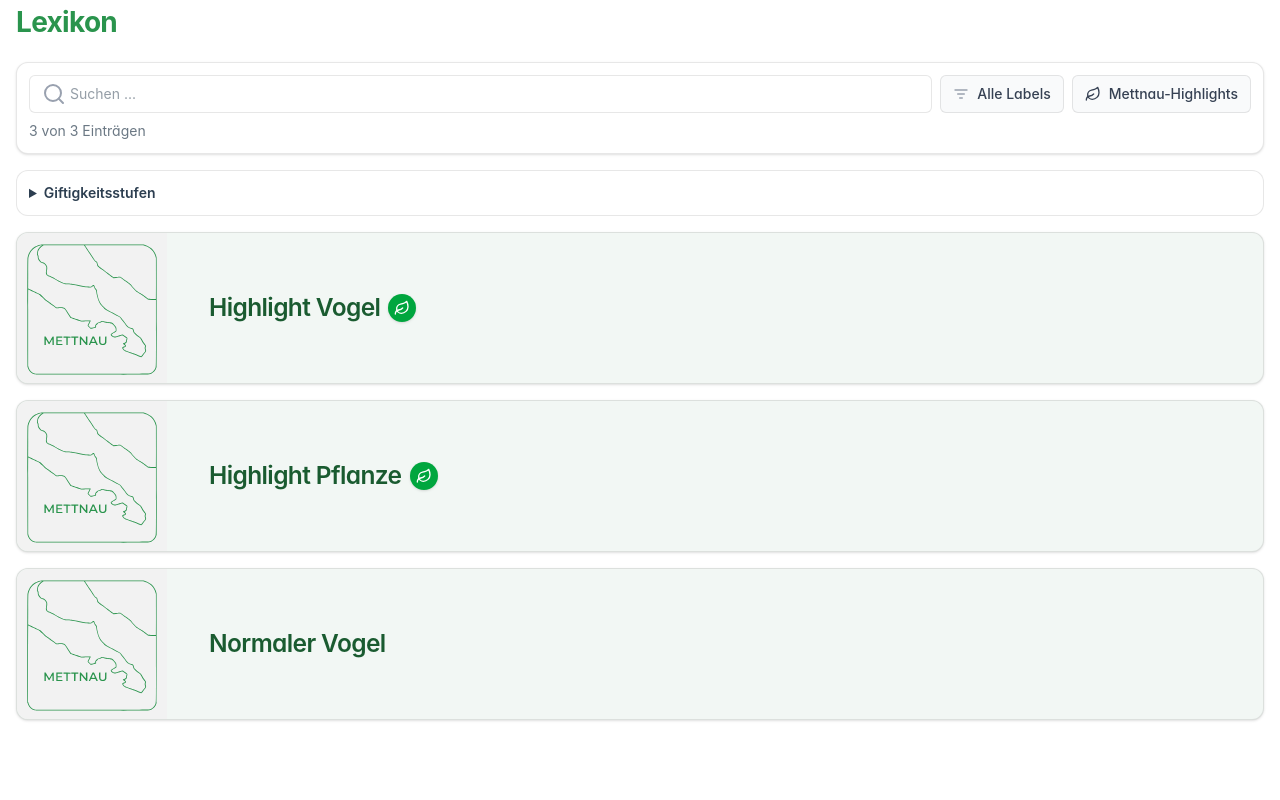
Test: LexiconListView › filters the list to Mettnau highlights when the chip is active
Click the button "Mettnau-Highlights": (1161, 94) [1072,74,1251,112]
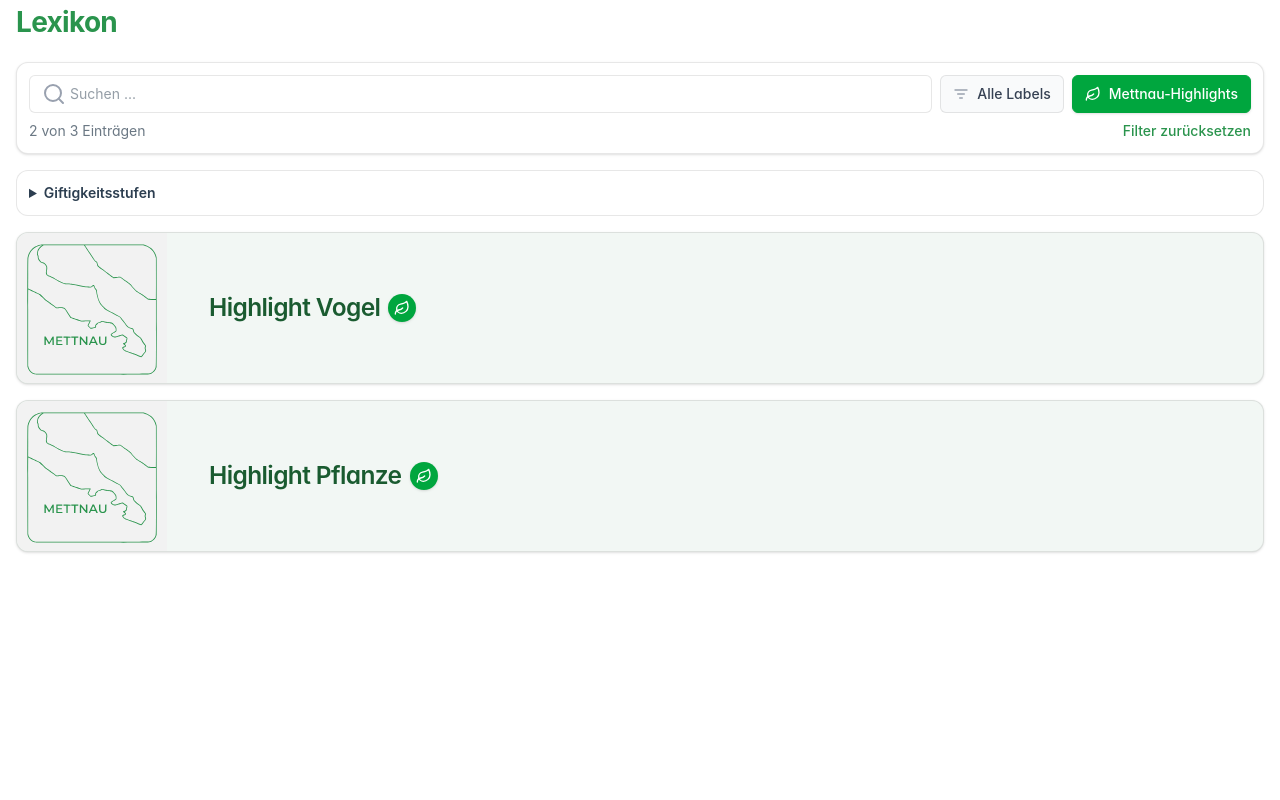
Expected: the headings read "Highlight Vogel", "Highlight Pflanze", in this order, [209,288,380,327]; [209,456,402,495]
Now the text "2 von 3 Einträgen" is shown, box [29,120,146,140]
